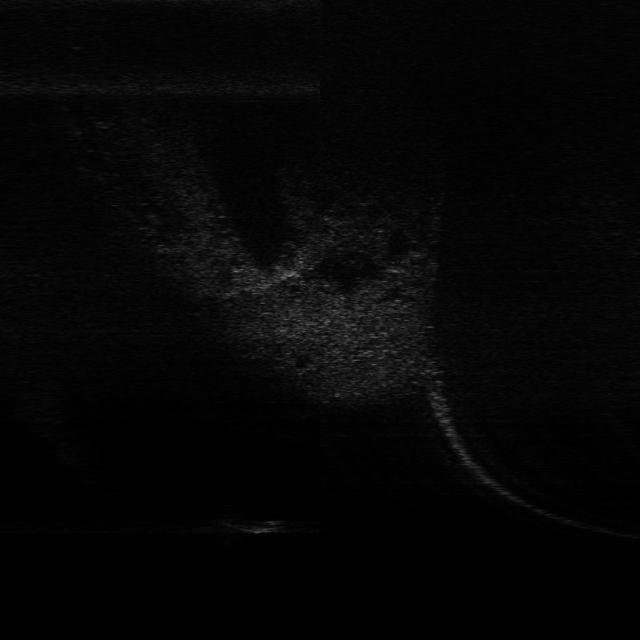cube: (194, 514, 290, 536)
